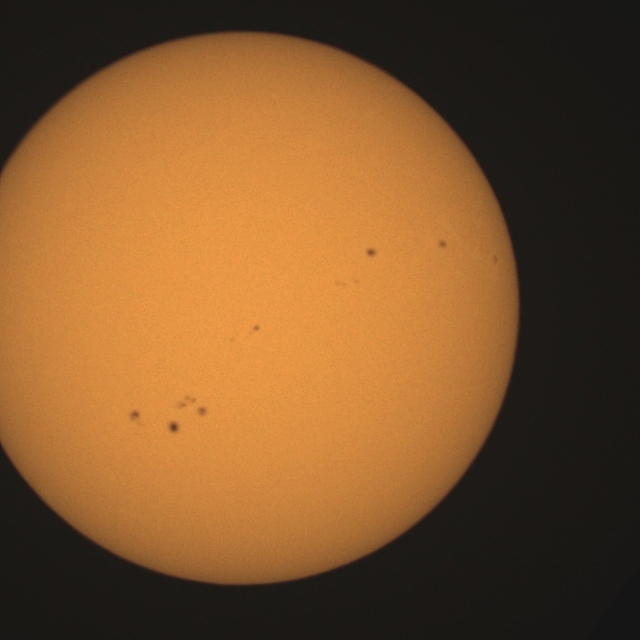sunspot: (171, 395, 208, 428), (167, 420, 181, 435), (128, 409, 141, 424), (248, 324, 261, 336), (366, 247, 378, 259), (438, 239, 448, 250), (492, 253, 500, 265)
